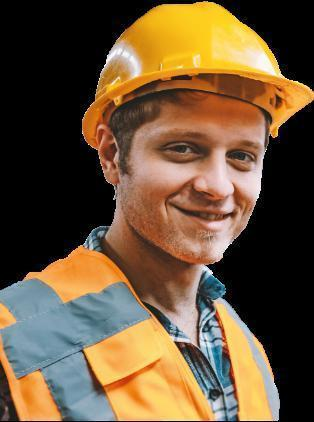helmet: (81, 1, 311, 142)
